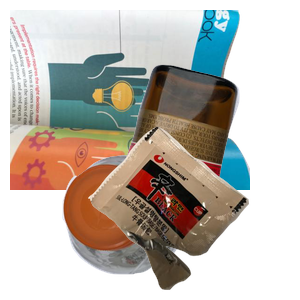glass: (113, 62, 300, 242)
paper: (10, 10, 250, 190)
plastic: (60, 152, 237, 300)
trash: (86, 124, 300, 300)
